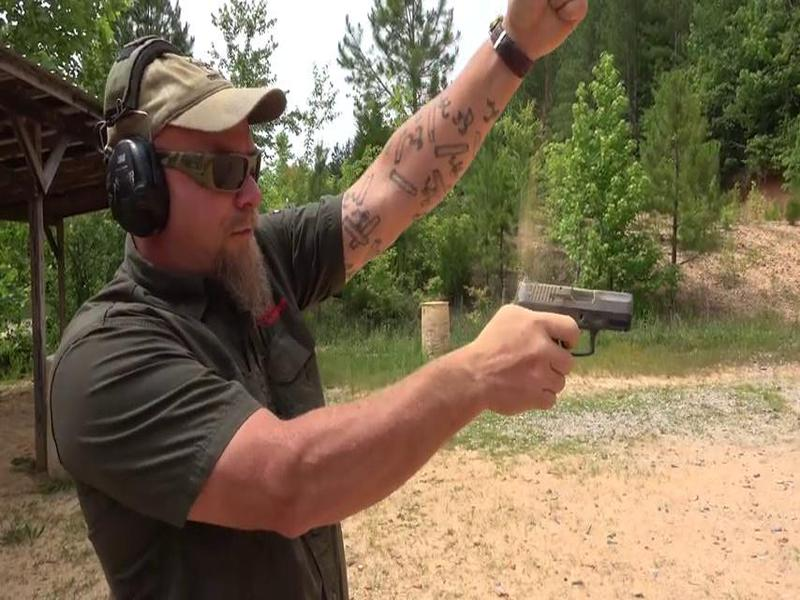Pistola: (503, 264, 642, 361)
